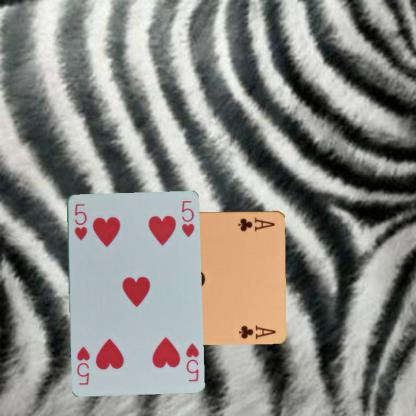5h: (182, 340, 200, 382), (71, 200, 88, 242)
Ac: (235, 214, 276, 233)
